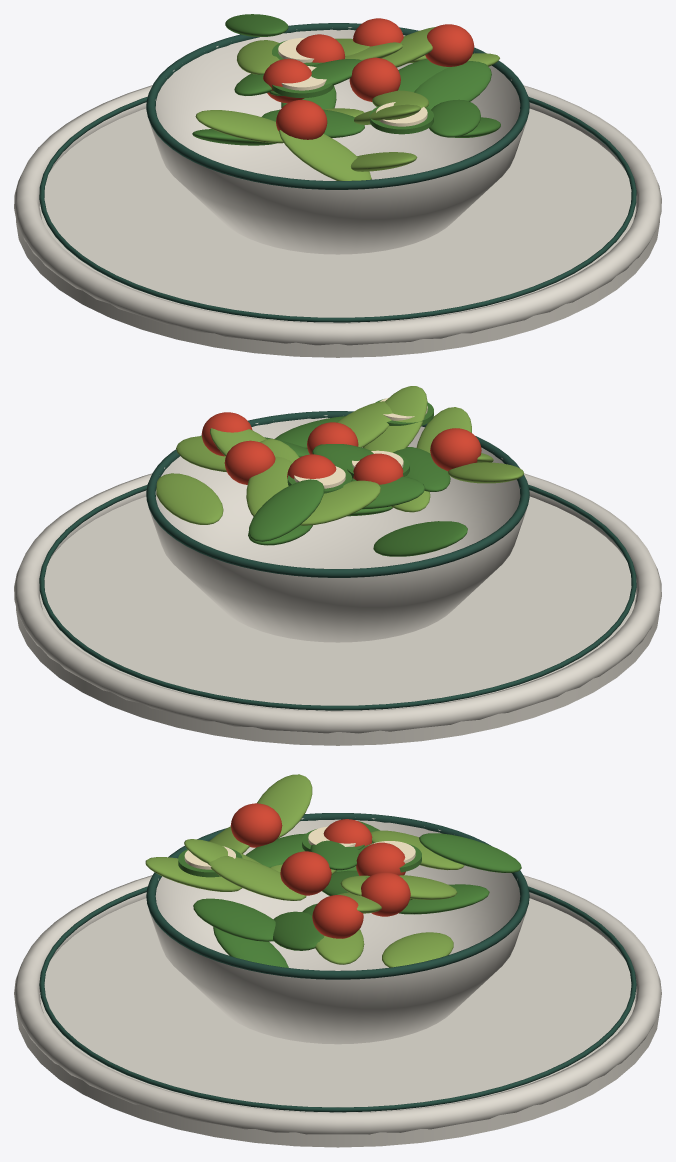
The model's file is salad-small.glb.
3 renders of one model, top to bottom at view 1: azimuth 30°, elevation 25°; view 2: azimuth 150°, elevation 25°; view 3: azimuth 270°, elevation 25°, orthographic.
Parts seen in each view (by area): view 1: Morsel original salad small, leaf (×16); view 2: Morsel original salad small, leaf (×15); view 3: Morsel original salad small, leaf (×15).
Part boxes in pixels (<box>): Morsel original salad small: <box>14,18,661,357</box>; leaf (×16): <box>192,14,491,180</box>; Morsel original salad small: <box>14,397,661,745</box>; leaf (×15): <box>156,386,523,556</box>; Morsel original salad small: <box>14,803,661,1147</box>; leaf (×15): <box>145,774,521,967</box>.
Bounding box in the file's own units: 3.02 × 0.8663 × 3.02.
